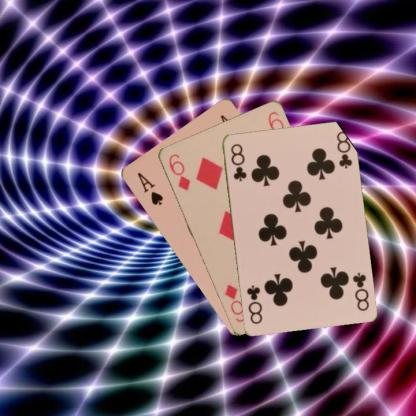6d: (166, 151, 191, 192)
8c: (350, 269, 370, 312), (228, 141, 247, 183)
As: (134, 170, 164, 206)
